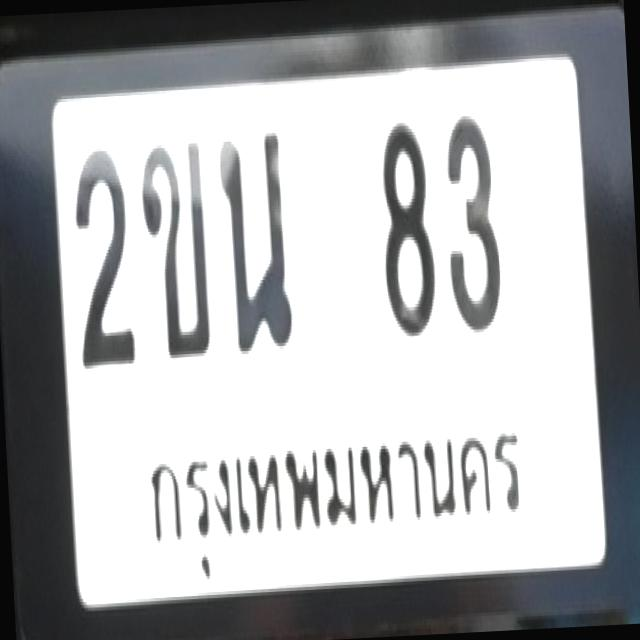license_plate: (0, 18, 640, 639)
